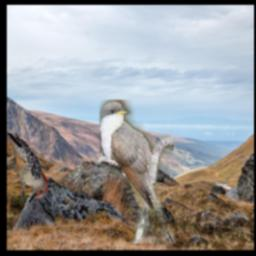Cuckoo: (100, 100, 175, 244)
Woodpecker: (8, 133, 48, 202)
